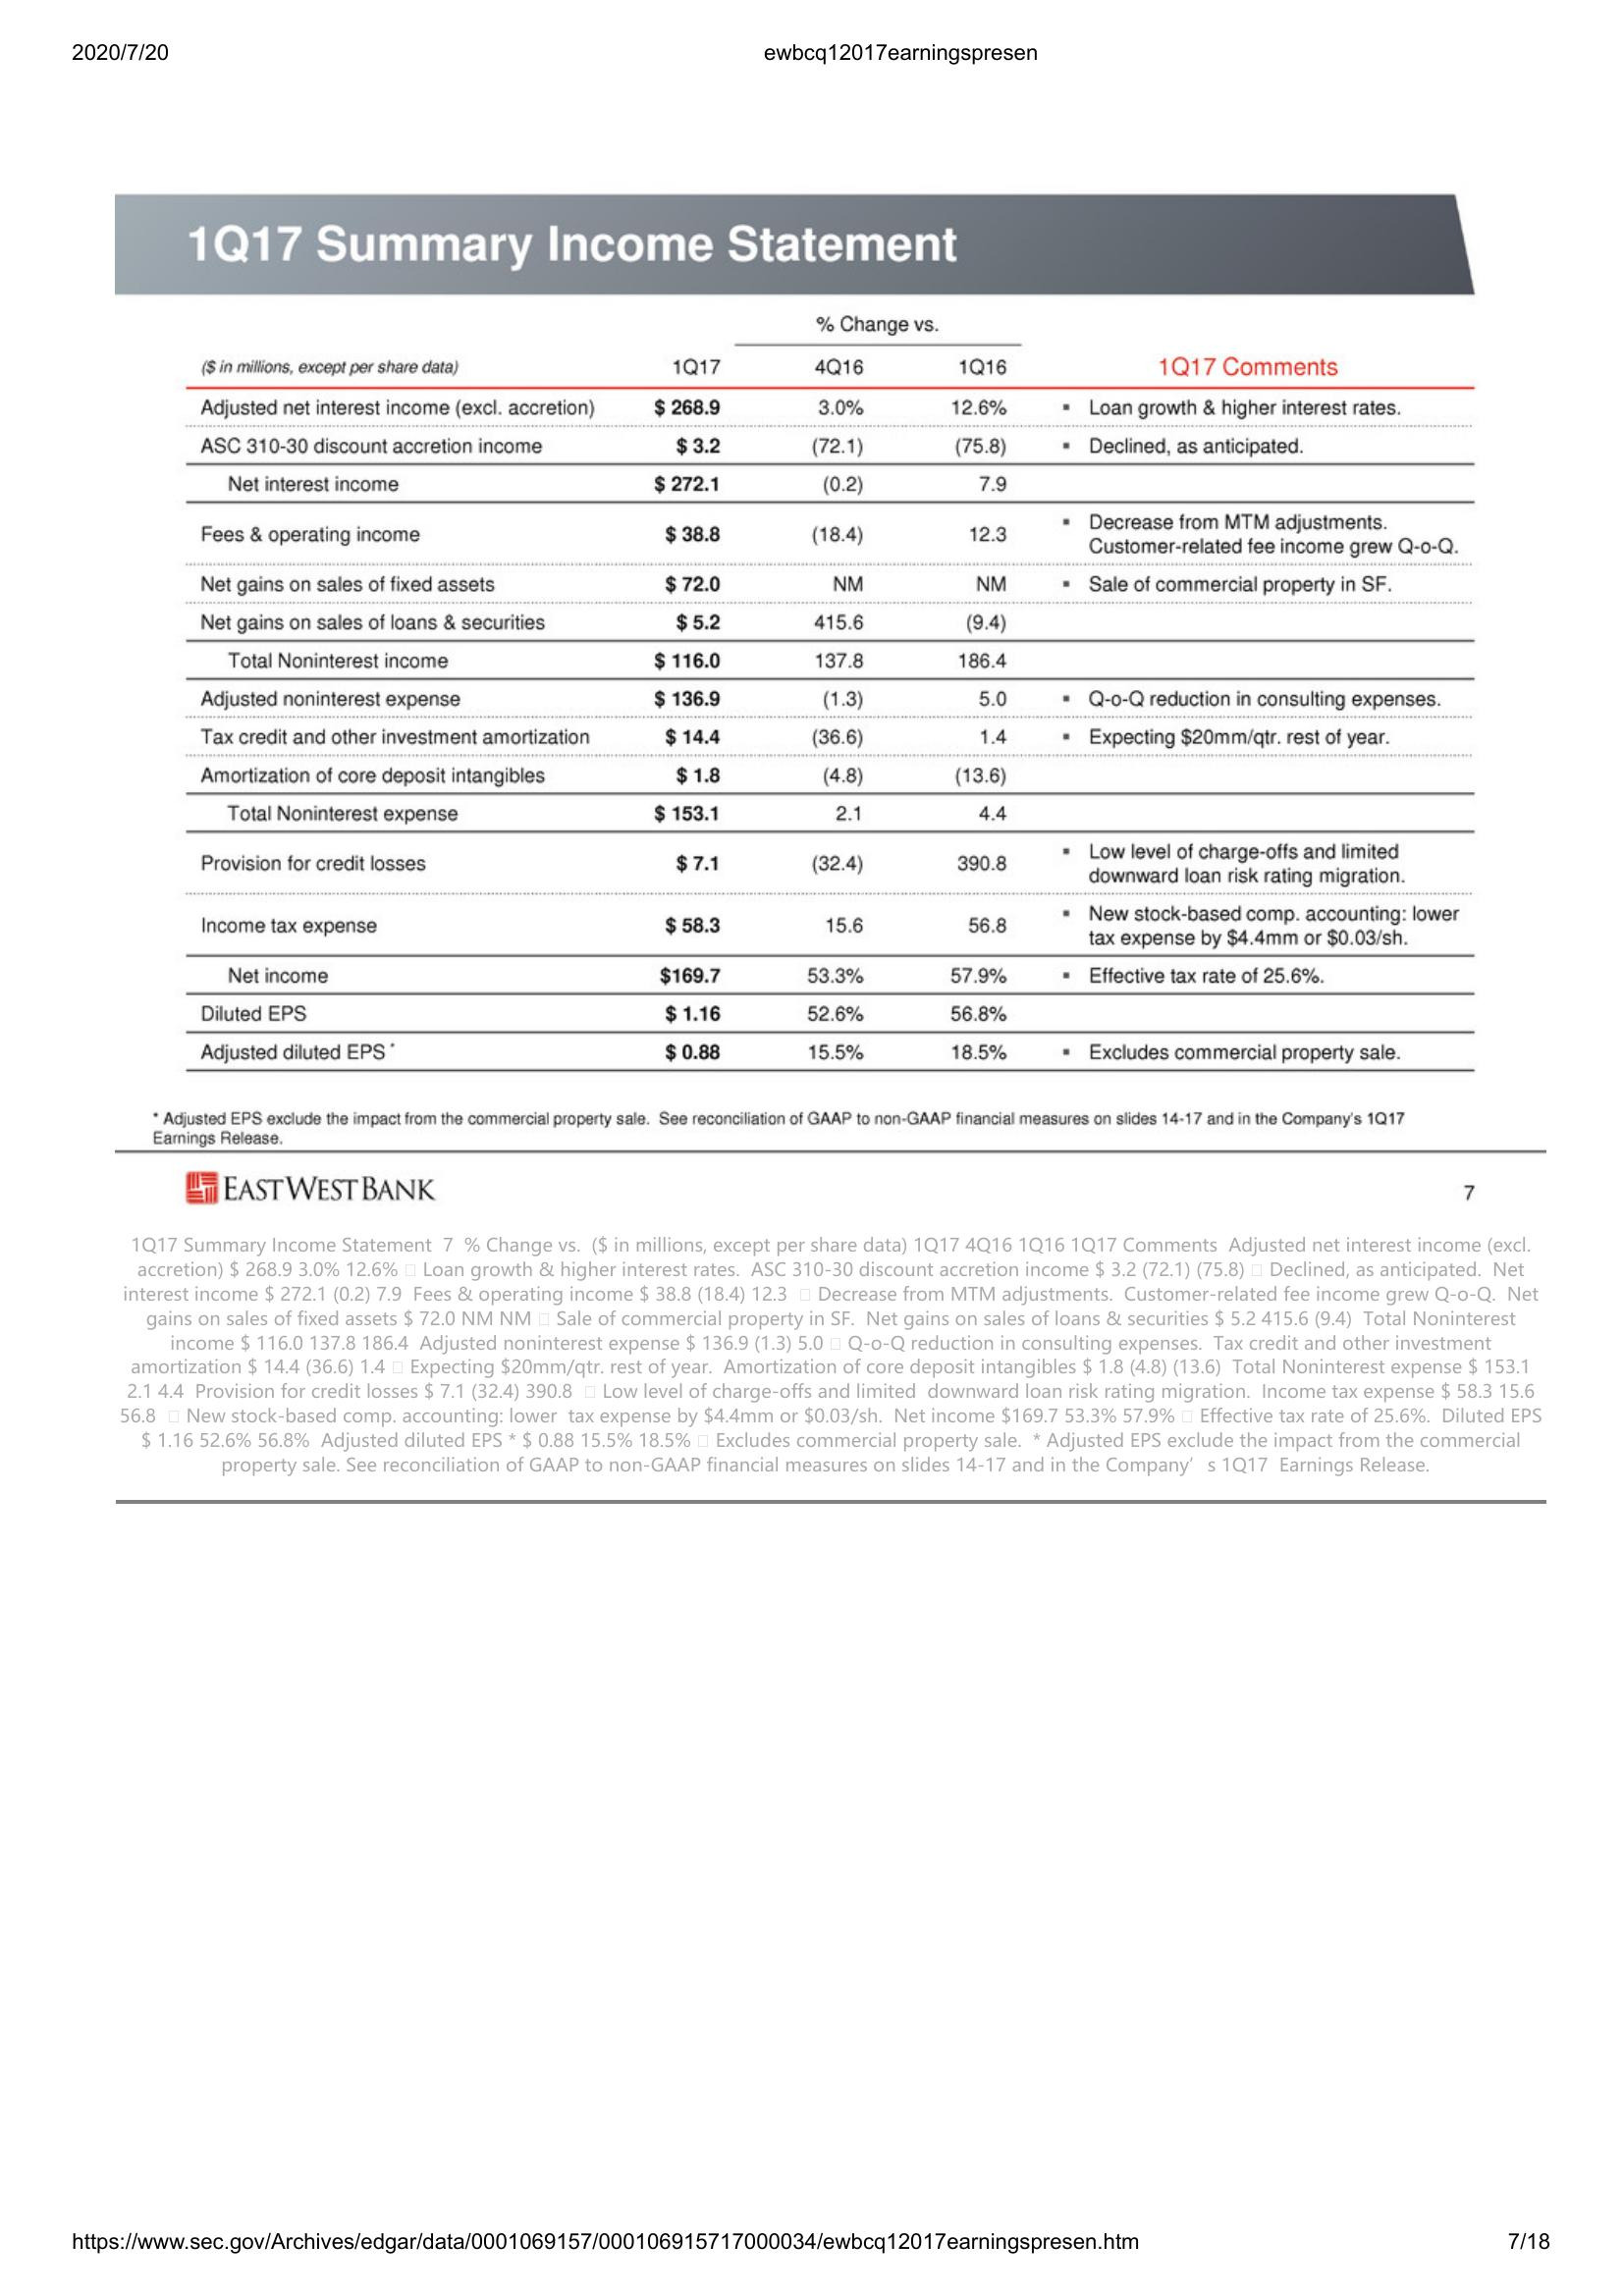table: (179, 311, 1482, 1078)
